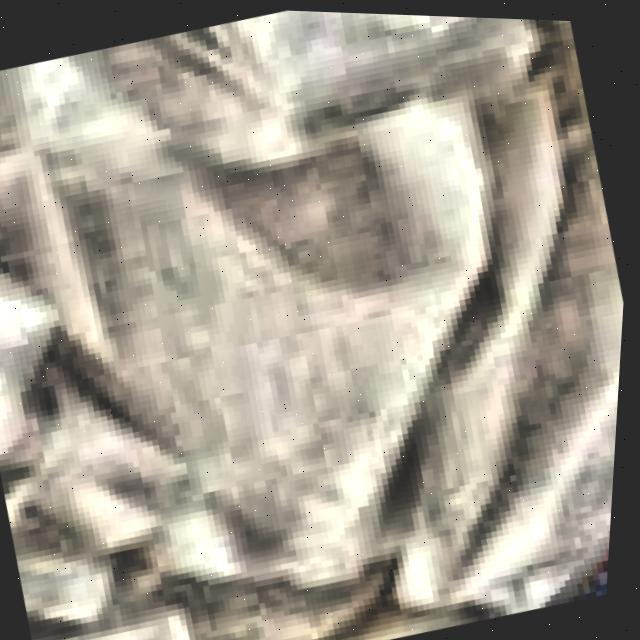paper: (0, 8, 627, 640)
